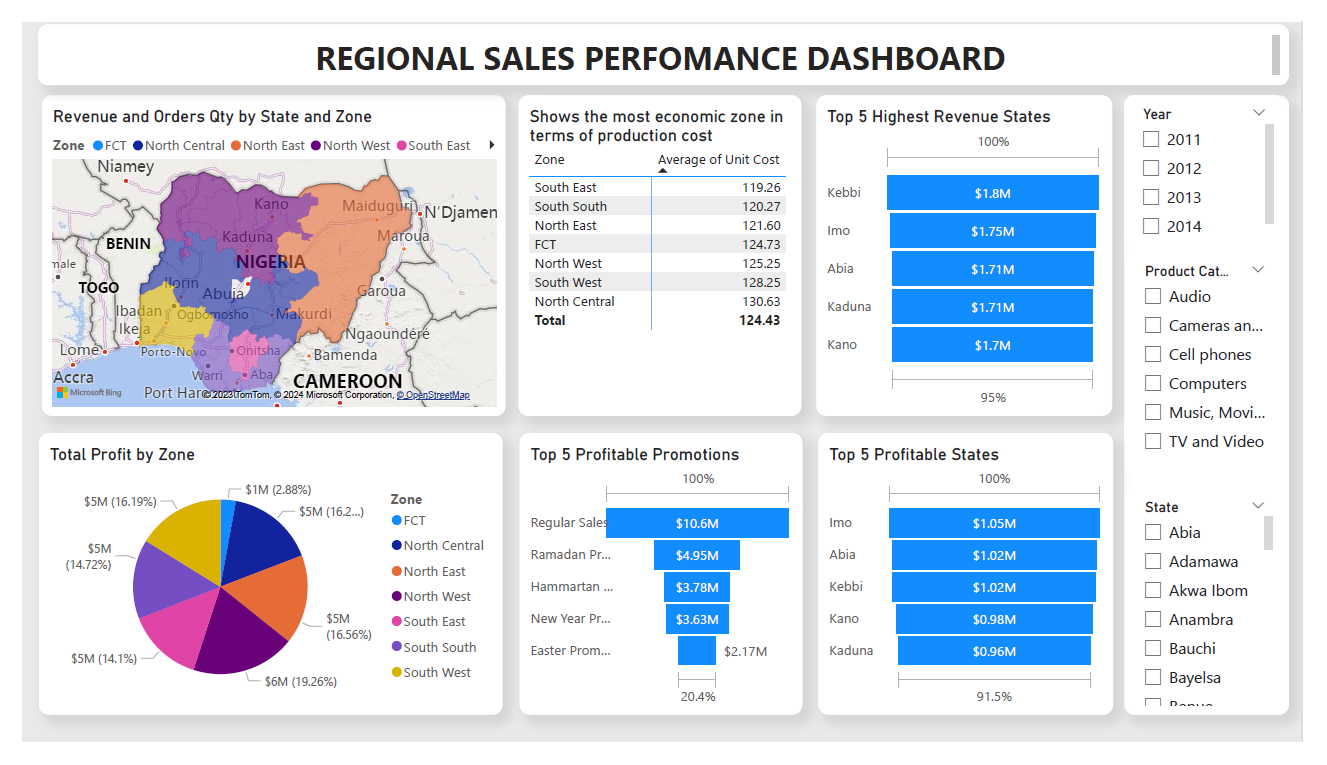

What the dashboard file says about the page in this screenshot:
{"tool":"powerbi","page":{"name":"Regional","canvas":[1280,720],"ordinal":1},"visuals":[{"type":"shape","box":[1101.7,73.3,165,620],"z":0},{"type":"filledMap","title":"Revenue and Orders Qty by State and Zone","fields":{"Category":["SalesState.State"],"Series":["SalesState.Zone"]},"box":[18.6,73,464.3,321],"z":1000},{"type":"textbox","box":[15,1.7,1251.7,61.7],"z":2000},{"type":"pieChart","fields":{"Y":["SalesData.Total Profit"],"Series":["SalesState.Zone"]},"box":[15.7,411.4,464.3,281.4],"z":3000},{"type":"pivotTable","title":"Shows the most economic zone in terms of production cost","fields":{"Values":["Avg(SalesData.Unit Cost)"],"Rows":["SalesState.Zone"]},"box":[495.7,72.9,282.9,321.4],"z":4000},{"type":"slicer","fields":{"Values":["SalesData.Order Date.Variation.Date Hierarchy.Year"]},"box":[1102,73,160,148.9],"z":5000,"group":"g1"},{"type":"slicer","fields":{"Values":["ProductSubCategory.Product Category"]},"box":[1104.2,229.7,156.7,225.6],"z":6000,"group":"g1"},{"type":"funnel","title":"Top 5 Highest Revenue States","fields":{"Category":["SalesState.State"],"Y":["SalesData.Total Sales"]},"box":[794.3,72.9,295.7,321.4],"z":7000},{"type":"funnel","title":"Top 5 Profitable States","fields":{"Category":["SalesState.State"],"Y":["SalesData.Total Profit"]},"box":[795.7,411.4,295.7,281.4],"z":8000},{"type":"funnel","title":"Top 5 Profitable Promotions","fields":{"Y":["SalesData.Total Profit"],"Category":["SalesPromotion.PromotionName","SalesState.State"]},"box":[497.1,411.4,282.9,281.4],"z":9000},{"type":"slicer","fields":{"Values":["SalesState.State"]},"box":[1104.2,466.3,156.7,226.7],"z":10000,"group":"g1"},{"type":"group","id":"g1","title":"Group 1","box":[1102,73,160,620],"z":10001}]}

Visuals, with their boxes in screenshot pixels (x1, y1, x2, y2), scaled from the page's 1280x720 canvas onto the 1327x765 screenshot:
shape: <bbox>1142, 78, 1313, 737</bbox>
"Revenue and Orders Qty by State and Zone" filledMap: <bbox>19, 78, 501, 419</bbox>
textbox: <bbox>16, 2, 1313, 67</bbox>
pieChart - SalesData.Total Profit x SalesState.Zone: <bbox>16, 437, 498, 736</bbox>
"Shows the most economic zone in terms of production cost" pivotTable: <bbox>514, 77, 807, 419</bbox>
slicer - SalesData.Order Date.Variation.Date Hierarchy.Year: <bbox>1142, 78, 1308, 236</bbox>
slicer - ProductSubCategory.Product Category: <bbox>1145, 244, 1307, 484</bbox>
"Top 5 Highest Revenue States" funnel: <bbox>823, 77, 1130, 419</bbox>
"Top 5 Profitable States" funnel: <bbox>825, 437, 1131, 736</bbox>
"Top 5 Profitable Promotions" funnel: <bbox>515, 437, 809, 736</bbox>
slicer - SalesState.State: <bbox>1145, 495, 1307, 736</bbox>
"Group 1" group: <bbox>1142, 78, 1308, 736</bbox>
